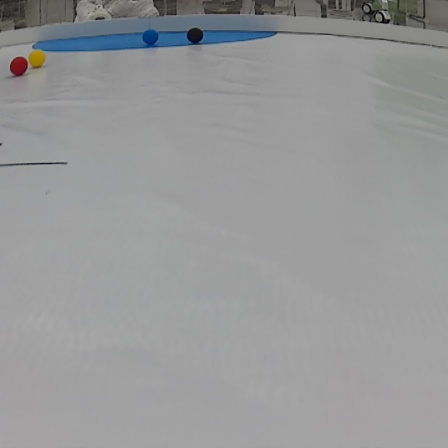black: (188, 27, 203, 43)
blue: (141, 30, 163, 46)
blue_base: (30, 30, 277, 48)
red: (8, 55, 28, 75)
yellow: (28, 50, 47, 68)
